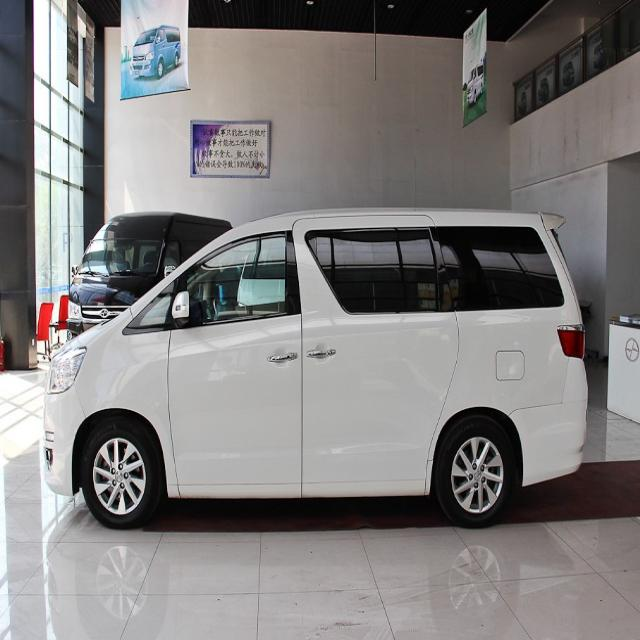back_left_side_light: (554, 321, 588, 367)
door: (292, 219, 465, 497)
front_left_side_door: (166, 224, 307, 498)
front_left_side_light: (42, 338, 90, 398)
front_left_side_mirror: (171, 290, 192, 334)
wheel: (82, 415, 162, 532), (440, 419, 518, 529)
